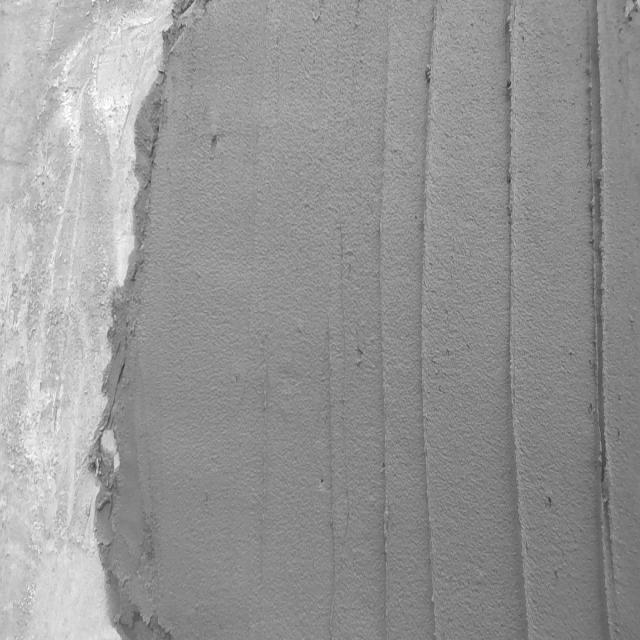trowels marks: (579, 0, 618, 640), (503, 1, 529, 640), (418, 12, 443, 640), (378, 14, 392, 640), (326, 307, 338, 632)
